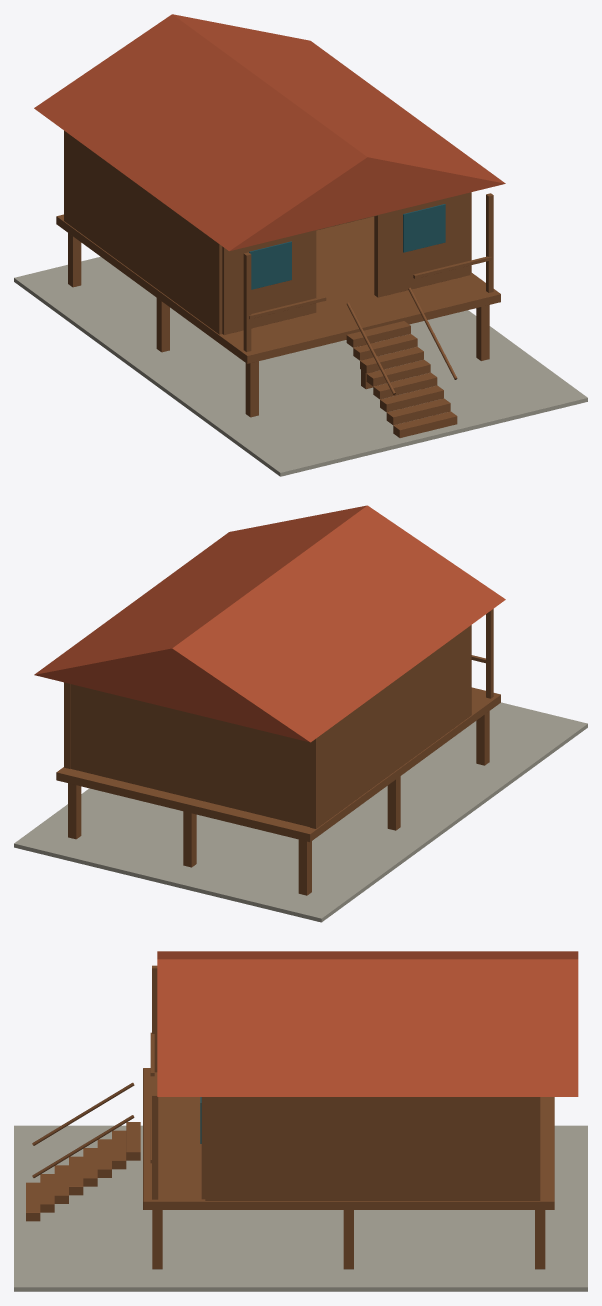
Rendered from kampung-house.glb.
3 views of the same model, one above another, from view 1: azimuth 30°, elevation 25°; view 2: azimuth 150°, elevation 25°; view 3: azimuth 270°, elevation 25° (orthographic). The views are drawn at different scales.
Parts seen in each view (by area): view 1: Pitched_Timber_Roof, Ground_Pads, Elevated_Floor, Side_Wall, Entry_Wall.001, Entry_Wall, Front_Window.001, Front_Window, Stair.001, Stair, Stair.002, Stair.004 (+10 smaller); view 2: Pitched_Timber_Roof, Ground_Pads, Rear_Wall, Side_Wall, Elevated_Floor, Stilt.002, Stilt.005, Stilt.008, Veranda_Post, Stilt, Stilt.001, Side_Wall.001; view 3: Pitched_Timber_Roof, Ground_Pads, Side_Wall.001, Elevated_Floor, Veranda_Post.001, Stilt.006, Stilt.007, Stilt.008, Stair, Stair.003, Stair.006, Stair.001 (+8 smaller).
Part boxes in pixels (<box>): Pitched_Timber_Roof: <box>34,14,505,251</box>; Ground_Pads: <box>14,256,587,476</box>; Elevated_Floor: <box>56,214,500,363</box>; Side_Wall: <box>64,130,222,334</box>; Entry_Wall.001: <box>374,192,470,297</box>; Entry_Wall: <box>222,230,316,334</box>; Front_Window.001: <box>403,204,445,252</box>; Front_Window: <box>249,241,291,289</box>; Stair.001: <box>386,398,450,425</box>; Stair: <box>393,411,457,437</box>; Stair.002: <box>380,385,443,412</box>; Stair.004: <box>366,359,430,386</box>; Pitched_Timber_Roof: <box>34,505,505,742</box>; Ground_Pads: <box>14,702,587,922</box>; Rear_Wall: <box>70,684,309,826</box>; Side_Wall: <box>310,625,471,828</box>; Elevated_Floor: <box>56,687,500,841</box>; Stilt.002: <box>298,839,311,895</box>; Stilt.005: <box>183,811,196,867</box>; Stilt.008: <box>68,783,81,839</box>; Veranda_Post: <box>486,609,493,698</box>; Stilt: <box>476,711,489,765</box>; Stilt.001: <box>387,776,400,830</box>; Side_Wall.001: <box>64,682,70,768</box>; Pitched_Timber_Roof: <box>157,951,578,1096</box>; Ground_Pads: <box>14,1125,587,1291</box>; Side_Wall.001: <box>205,1097,540,1200</box>; Elevated_Floor: <box>143,1068,554,1209</box>; Veranda_Post.001: <box>152,1093,158,1199</box>; Stilt.006: <box>152,1210,162,1269</box>; Stilt.007: <box>343,1210,353,1269</box>; Stilt.008: <box>535,1210,545,1269</box>; Stair: <box>26,1182,40,1221</box>; Stair.003: <box>69,1156,83,1195</box>; Stair.006: <box>112,1130,126,1169</box>; Stair.001: <box>40,1174,54,1212</box>.
Size of the model in its own units: 8 by 5.8 by 12.
